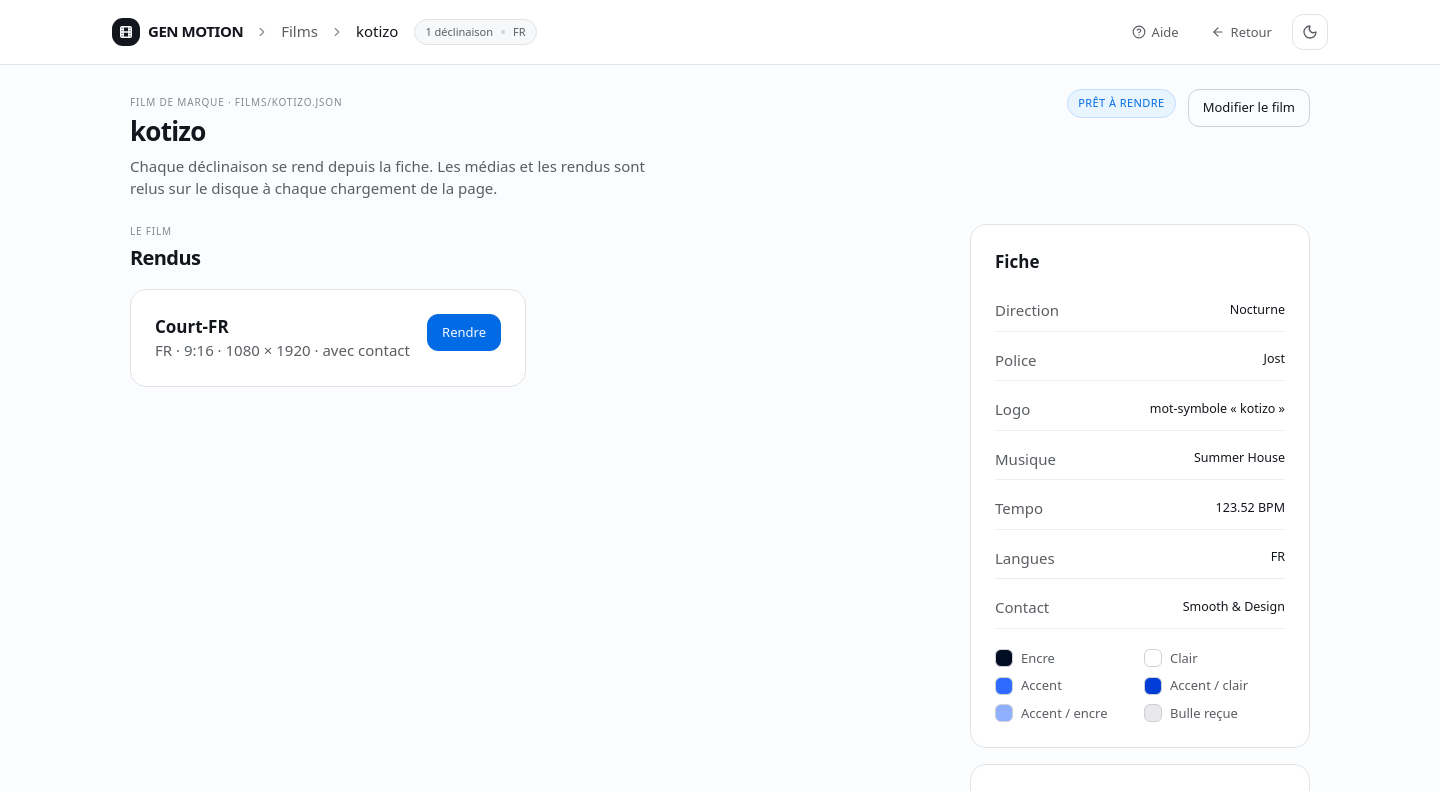
it: rendu d'une déclinaison › un flux coupé sans « done » n'est pas présenté comme un succès
Click the button "Rendre" at (464, 332), box [427, 314, 501, 351]
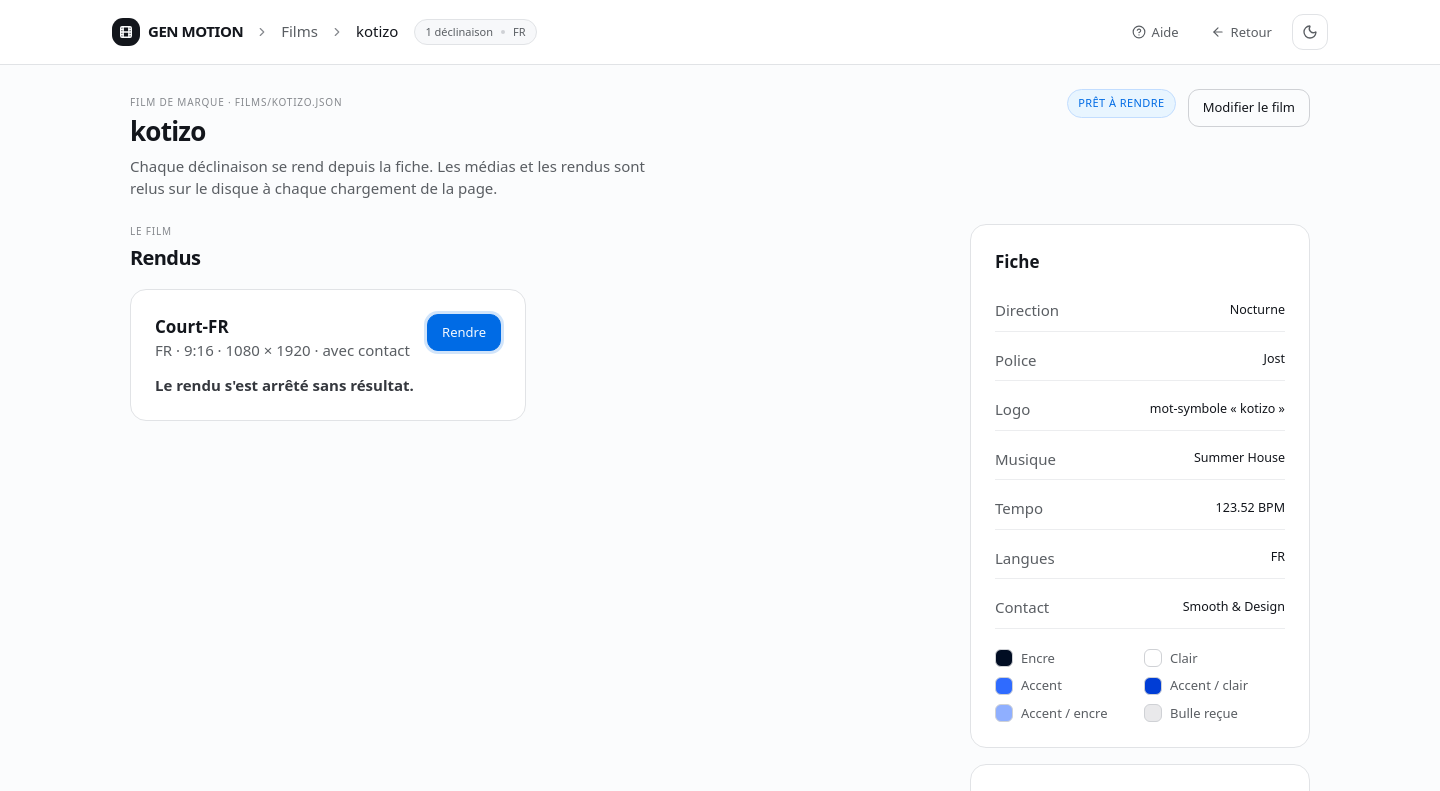
Result: the message reads "Le rendu s'est arrêté sans résultat." at [155, 374, 414, 394]
